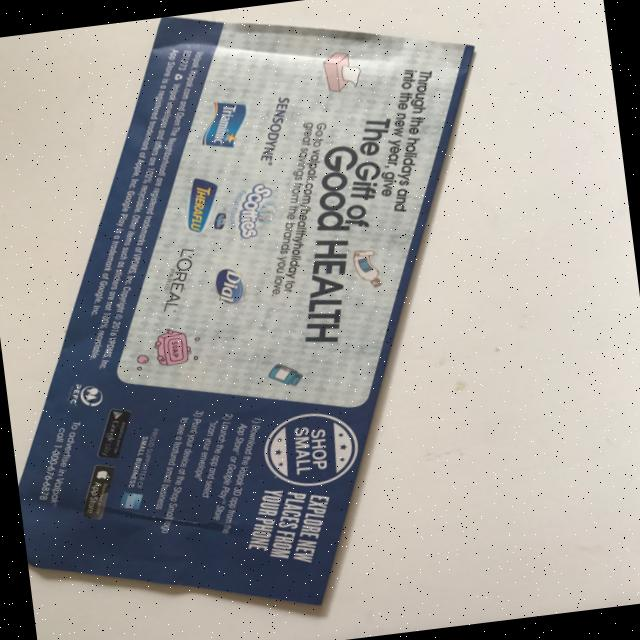paper: (0, 0, 541, 640)
